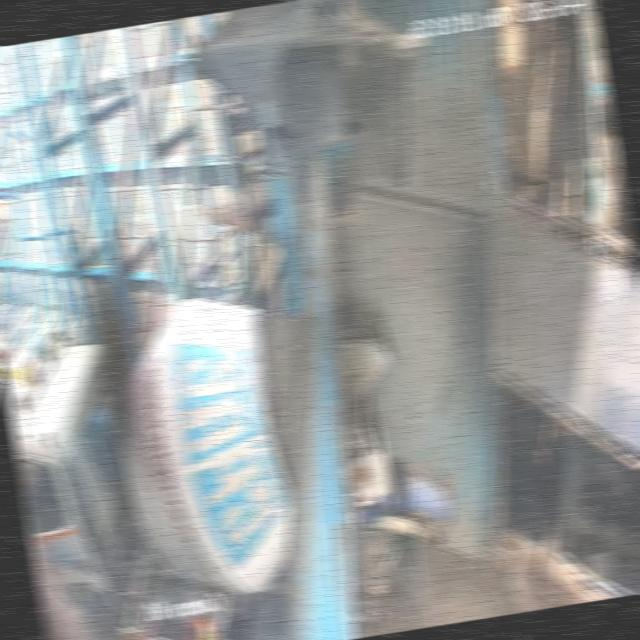cement_mixer_truck: (11, 298, 433, 640)
swing_chute: (271, 121, 372, 336)
